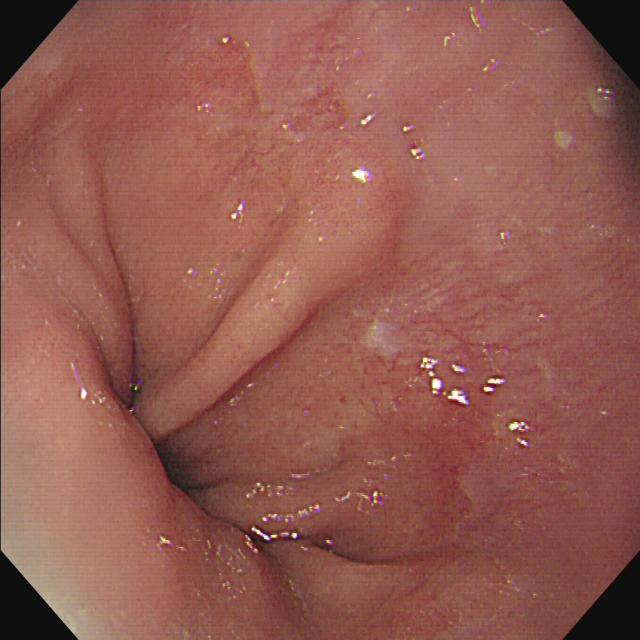E: (154, 444, 199, 498)
I: (66, 39, 504, 631)
U: (419, 356, 445, 397), (508, 422, 532, 448), (448, 389, 472, 407), (483, 379, 506, 394)
